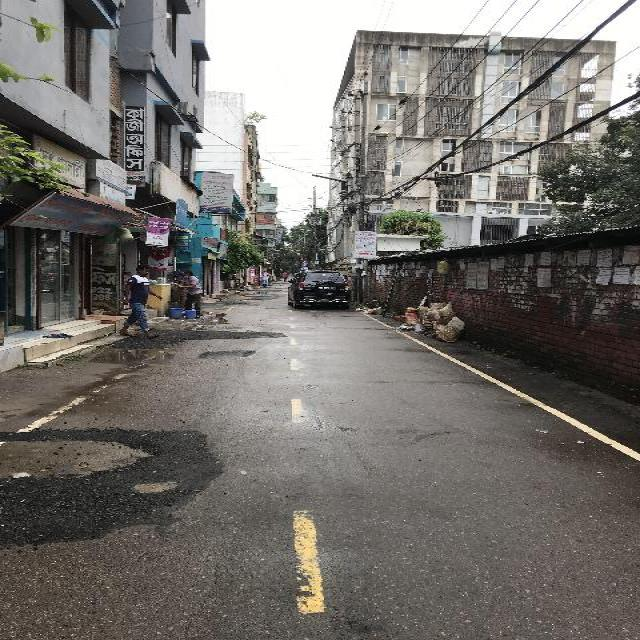vehicle: (284, 270, 355, 311)
